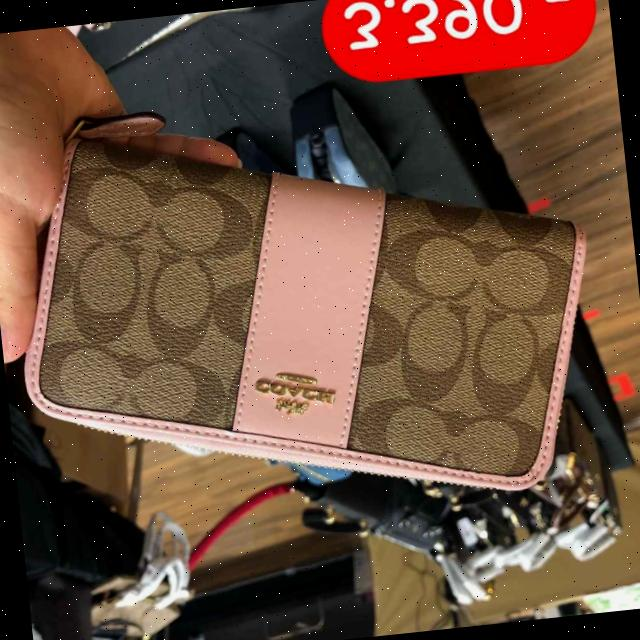Handbag: (0, 82, 640, 547)
